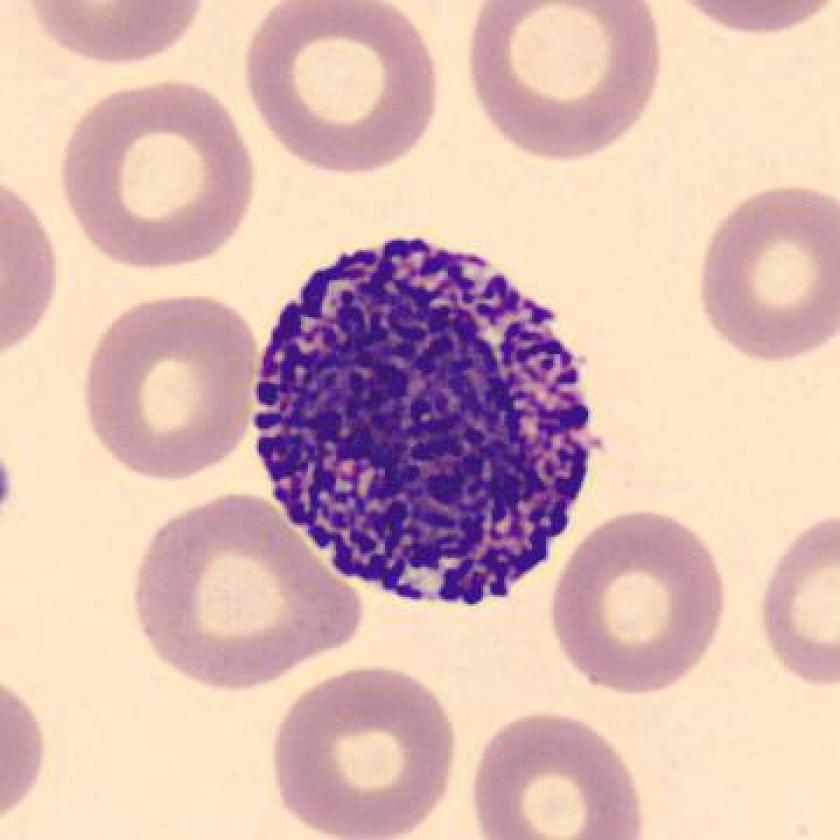basophil: (246, 230, 612, 617)
